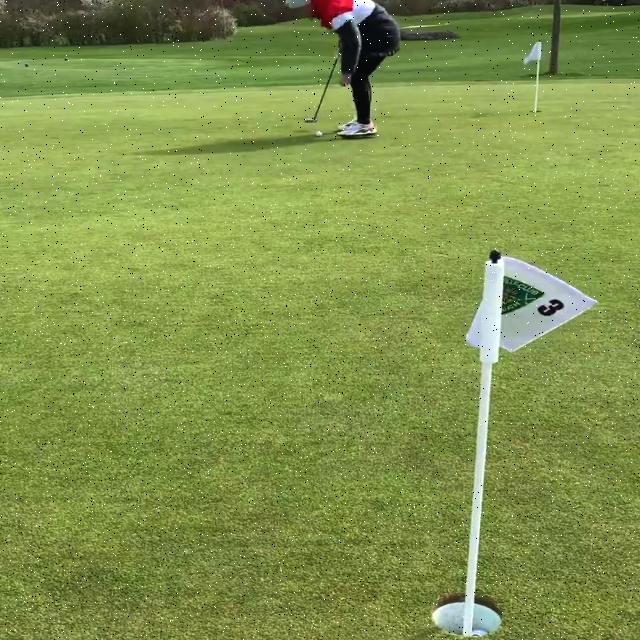ClubHead: (305, 117, 318, 123)
GolfBall: (316, 131, 322, 137)
